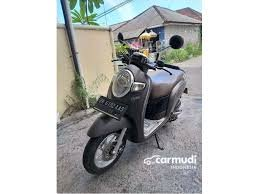motor: (79, 44, 188, 165)
